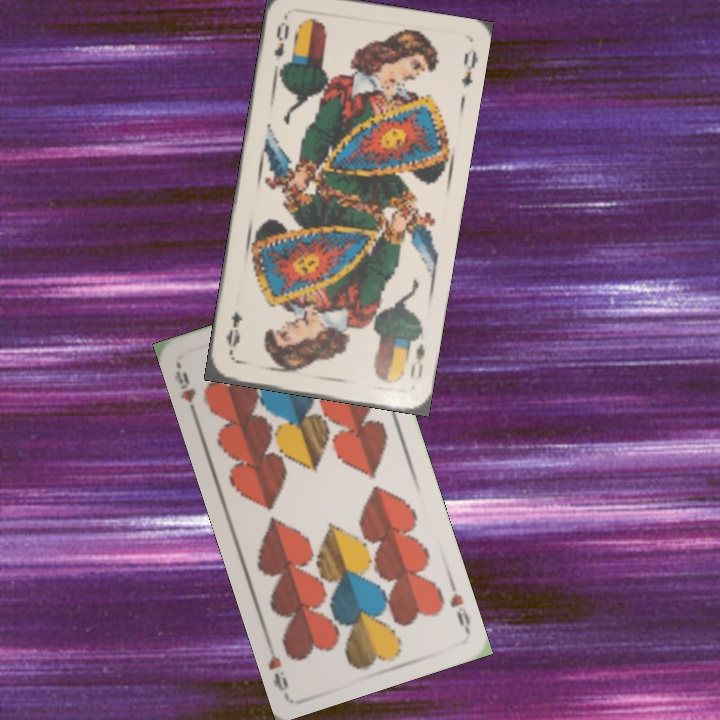EO: (269, 12, 292, 72), (406, 339, 428, 381)
H9: (170, 361, 199, 419), (445, 577, 473, 635)
